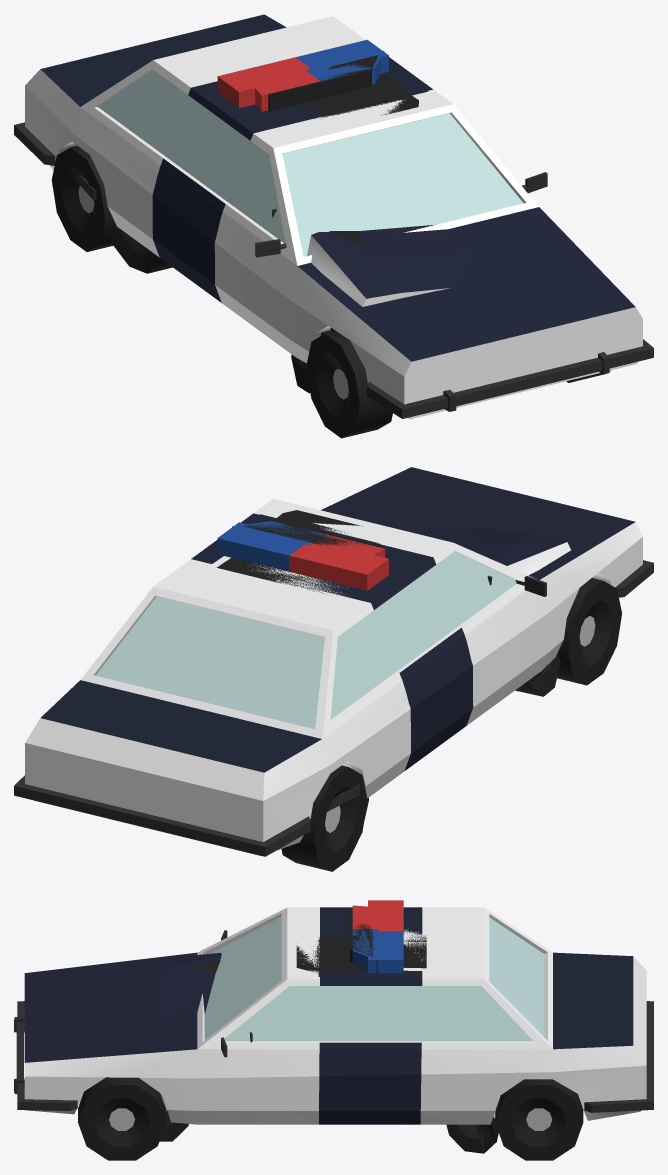
The model's file is PoliceCar.fbx.
The picture shows the model from 3 angles, top to bottom: view 1: azimuth 30°, elevation 25°; view 2: azimuth 150°, elevation 25°; view 3: azimuth 270°, elevation 25°; orthographic projection. The views are drawn at different scales.
Visible parts, largest first — view 1: PoliceCarNew, PoliceCarBroken1, PoliceCarBroken1.001; view 2: PoliceCarNew, PoliceCarBroken1, PoliceCarBroken1.001; view 3: PoliceCarNew, PoliceCarBroken1, PoliceCarBroken1.001.
Boxes of the visible parts, left/top/right/bottom form: PoliceCarNew: left=14, top=14, right=653, bottom=438; PoliceCarBroken1: left=75, top=43, right=470, bottom=393; PoliceCarBroken1.001: left=268, top=55, right=418, bottom=247; PoliceCarNew: left=14, top=467, right=653, bottom=871; PoliceCarBroken1: left=204, top=507, right=570, bottom=820; PoliceCarBroken1.001: left=217, top=510, right=486, bottom=594; PoliceCarNew: left=14, top=900, right=653, bottom=1160; PoliceCarBroken1: left=114, top=905, right=500, bottom=1153; PoliceCarBroken1.001: left=188, top=908, right=426, bottom=973.
Bounding box in the file's own units: 0.4044 × 0.2879 × 0.9398.
